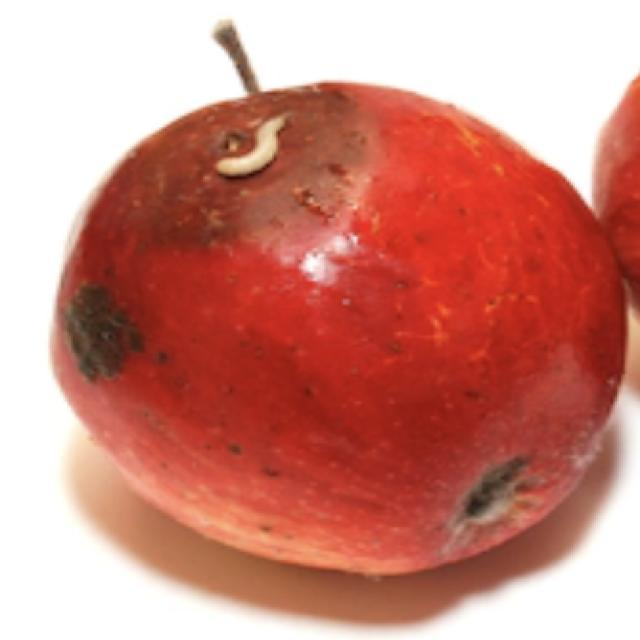Rotten: (55, 82, 637, 595)
